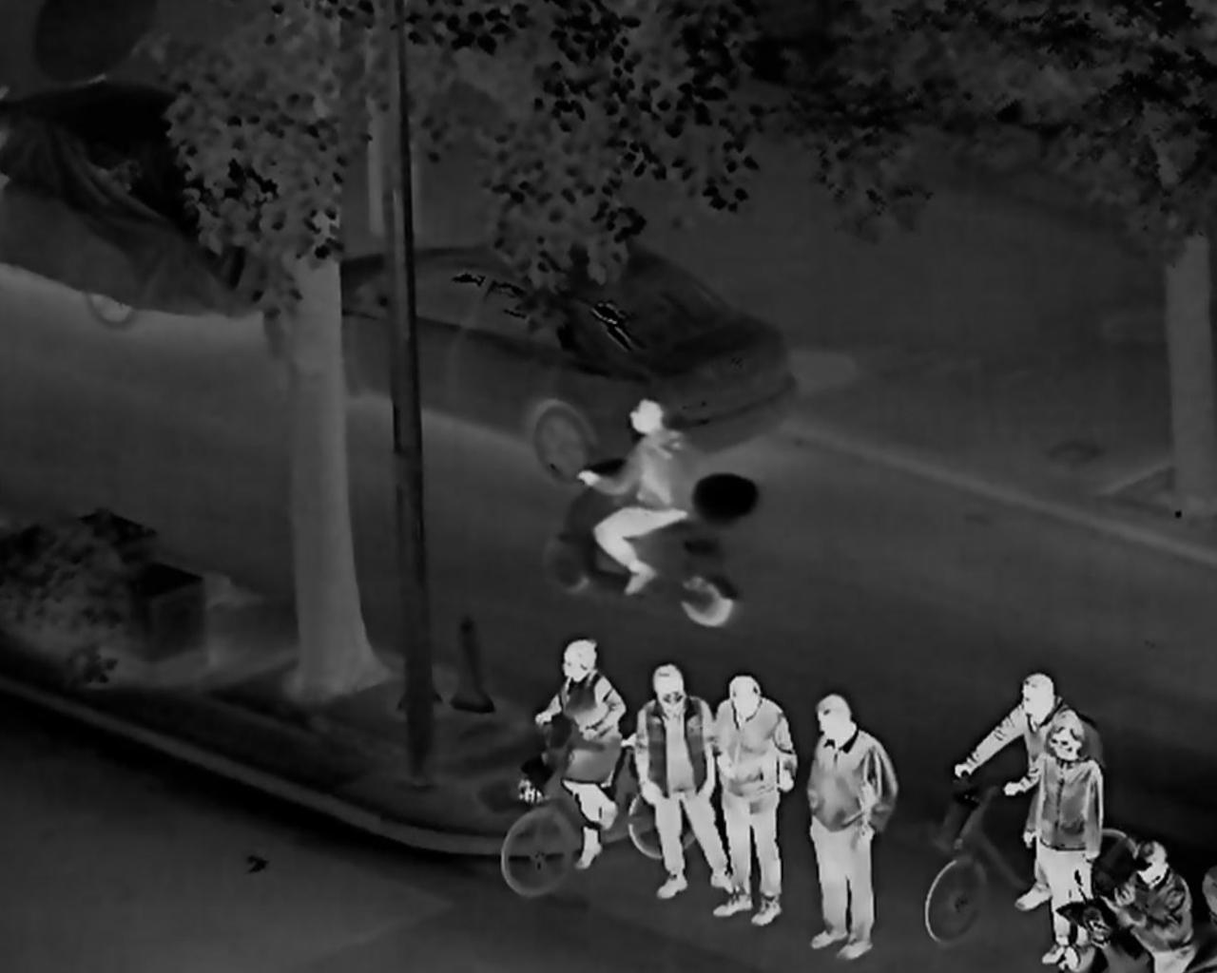person: (950, 673, 1104, 908), (629, 666, 737, 897), (806, 693, 898, 959), (574, 400, 698, 593), (531, 639, 627, 868), (710, 676, 794, 924), (1035, 716, 1104, 969), (1101, 835, 1190, 973)
